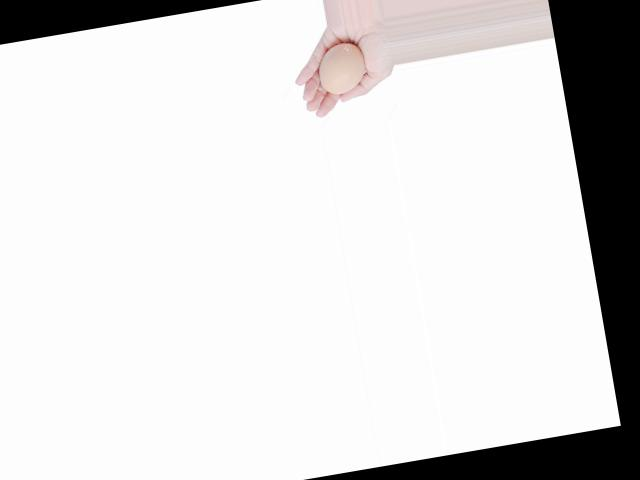egg: (314, 40, 368, 96)
